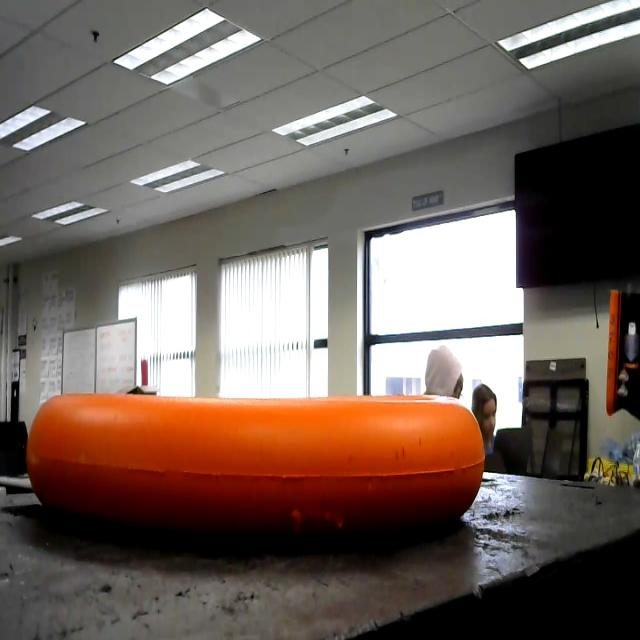note: (17, 366, 508, 552)
